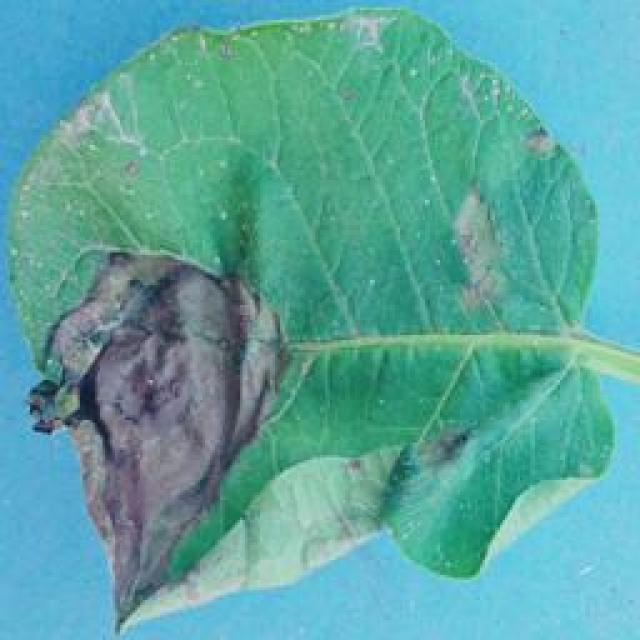Potato_Late_Blight: (7, 13, 625, 611)
